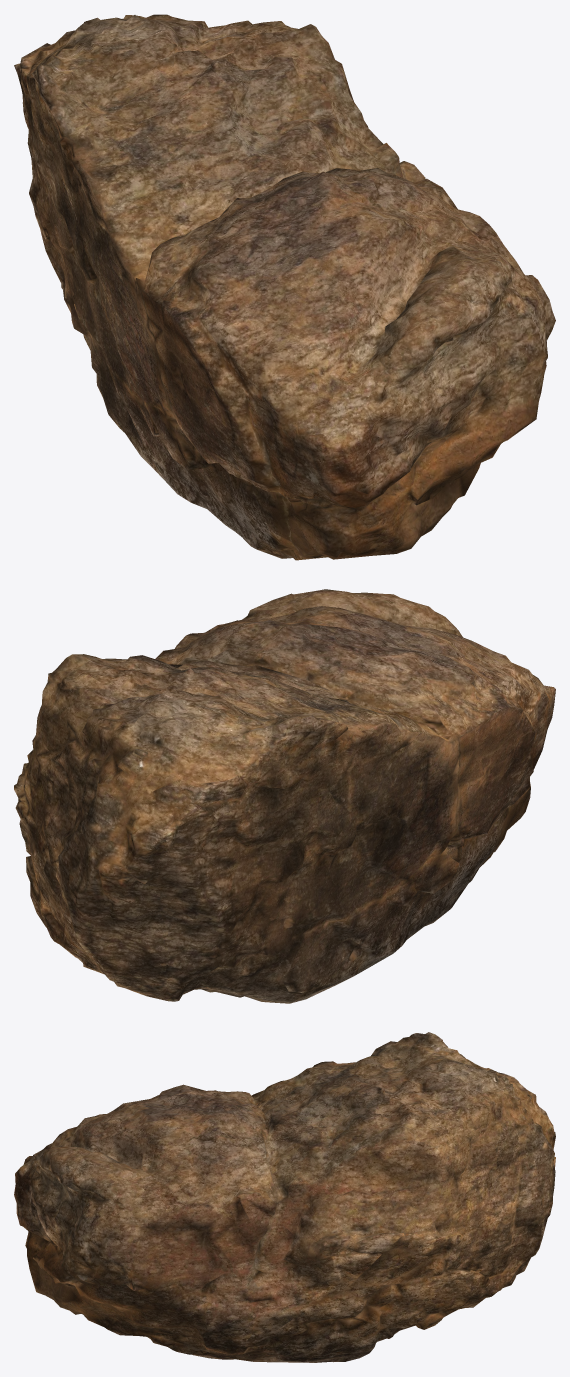
Rendered from namaqualand_boulder_06.glb.
The picture shows the model from 3 angles, top to bottom: view 1: azimuth 30°, elevation 25°; view 2: azimuth 150°, elevation 25°; view 3: azimuth 270°, elevation 25°; orthographic projection. The views are drawn at different scales.
Parts seen in each view (by area): view 1: namaqualand_boulder_06; view 2: namaqualand_boulder_06; view 3: namaqualand_boulder_06.
Boxes of the visible parts, x1,y1,x2,y2 form: namaqualand_boulder_06: [14, 14, 555, 560]; namaqualand_boulder_06: [14, 589, 555, 1003]; namaqualand_boulder_06: [14, 1032, 555, 1362].
Size of the model in its own units: 0.6724 by 0.6494 by 1.21.
Materials: 1 (1 with a texture image).
